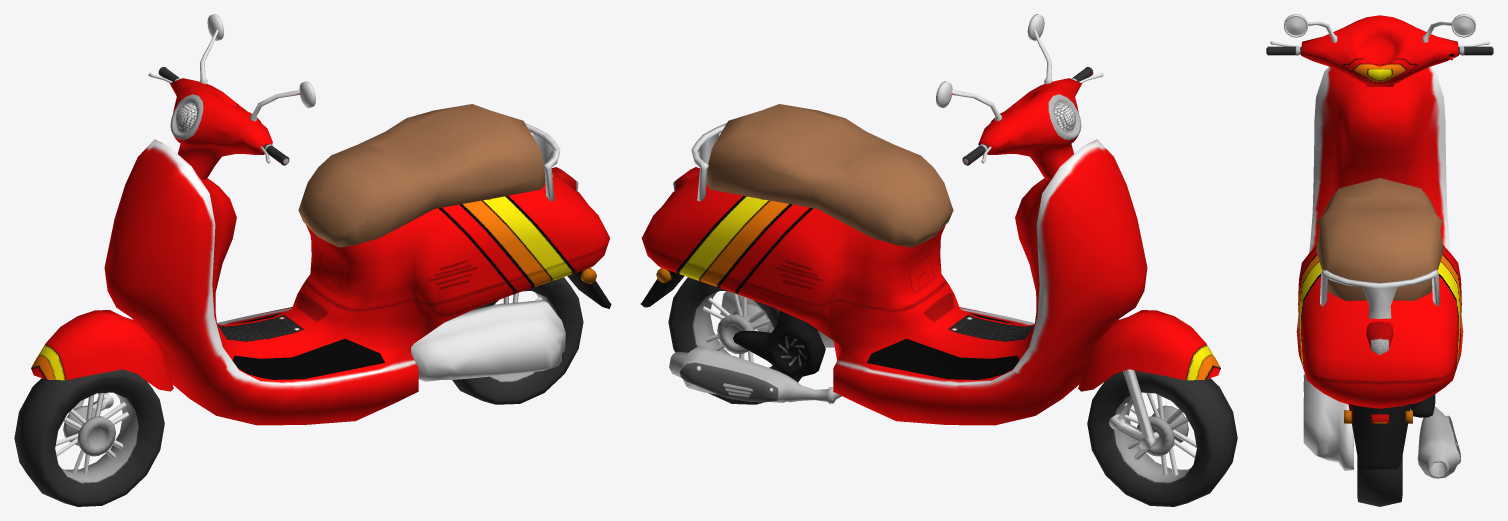
Rendered from simplescooter_red.fbx.
The picture shows the model from 3 angles, left to right: view 1: azimuth 30°, elevation 25°; view 2: azimuth 150°, elevation 25°; view 3: azimuth 270°, elevation 25°; orthographic projection. The views are drawn at different scales.
Parts seen in each view (by area): view 1: lowpolybase.004, lowpolybase.005, wheellowpoly.004, moteurlowpoly.002, devantrouelowpoly.002, devantlowpoly.002, wheellowpoly.005, tapislowpoly.002, derrierelowpoly.002, retrolowpoly.005; view 2: lowpolybase.004, lowpolybase.005, wheellowpoly.004, devantrouelowpoly.002, devantlowpoly.002, wheellowpoly.005, echaplowpoly.002, tapislowpoly.002, ventilolowpoly.002, Cylinder.003, derrierelowpoly.002, retrolowpoly.004; view 3: lowpolybase.004, lowpolybase.005, devantlowpoly.002, moteurlowpoly.002, trucderrirerelowpoly.002, echaplowpoly.002, derrierelowpoly.002, wheellowpoly.005, Plane.002, retrolowpoly.004, retrolowpoly.005, ventilolowpoly.002 (+2 smaller).
Boxes of the visible parts, x1,y1,x2,y2 form: lowpolybase.004: (104, 139, 609, 425); lowpolybase.005: (298, 104, 545, 247); wheellowpoly.004: (14, 369, 164, 506); moteurlowpoly.002: (411, 300, 565, 381); devantrouelowpoly.002: (31, 310, 173, 391); devantlowpoly.002: (169, 78, 272, 179); wheellowpoly.005: (452, 277, 583, 404); tapislowpoly.002: (232, 313, 384, 379); derrierelowpoly.002: (525, 123, 560, 201); retrolowpoly.005: (250, 81, 315, 121); lowpolybase.004: (641, 139, 1147, 425); lowpolybase.005: (706, 104, 953, 247); wheellowpoly.004: (1087, 370, 1237, 506); devantrouelowpoly.002: (1078, 310, 1220, 391); devantlowpoly.002: (979, 78, 1081, 179); wheellowpoly.005: (668, 277, 817, 404); echaplowpoly.002: (669, 346, 841, 403); tapislowpoly.002: (867, 313, 1019, 379); ventilolowpoly.002: (733, 310, 825, 378); Cylinder.003: (1109, 369, 1159, 449); derrierelowpoly.002: (691, 123, 726, 201); retrolowpoly.004: (936, 81, 1001, 121); lowpolybase.004: (1296, 66, 1463, 408); lowpolybase.005: (1316, 178, 1443, 300); devantlowpoly.002: (1301, 15, 1458, 86); moteurlowpoly.002: (1303, 374, 1353, 470); trucderrirerelowpoly.002: (1348, 403, 1411, 469); echaplowpoly.002: (1417, 406, 1460, 478); derrierelowpoly.002: (1320, 269, 1439, 318); wheellowpoly.005: (1357, 456, 1402, 506); Plane.002: (1366, 321, 1393, 354); retrolowpoly.004: (1422, 14, 1475, 42); retrolowpoly.005: (1284, 14, 1337, 42); ventilolowpoly.002: (1411, 394, 1435, 417).
Bounding box in the file's own units: 372 × 252 × 138.
Materials: 1 (1 with a texture image).
